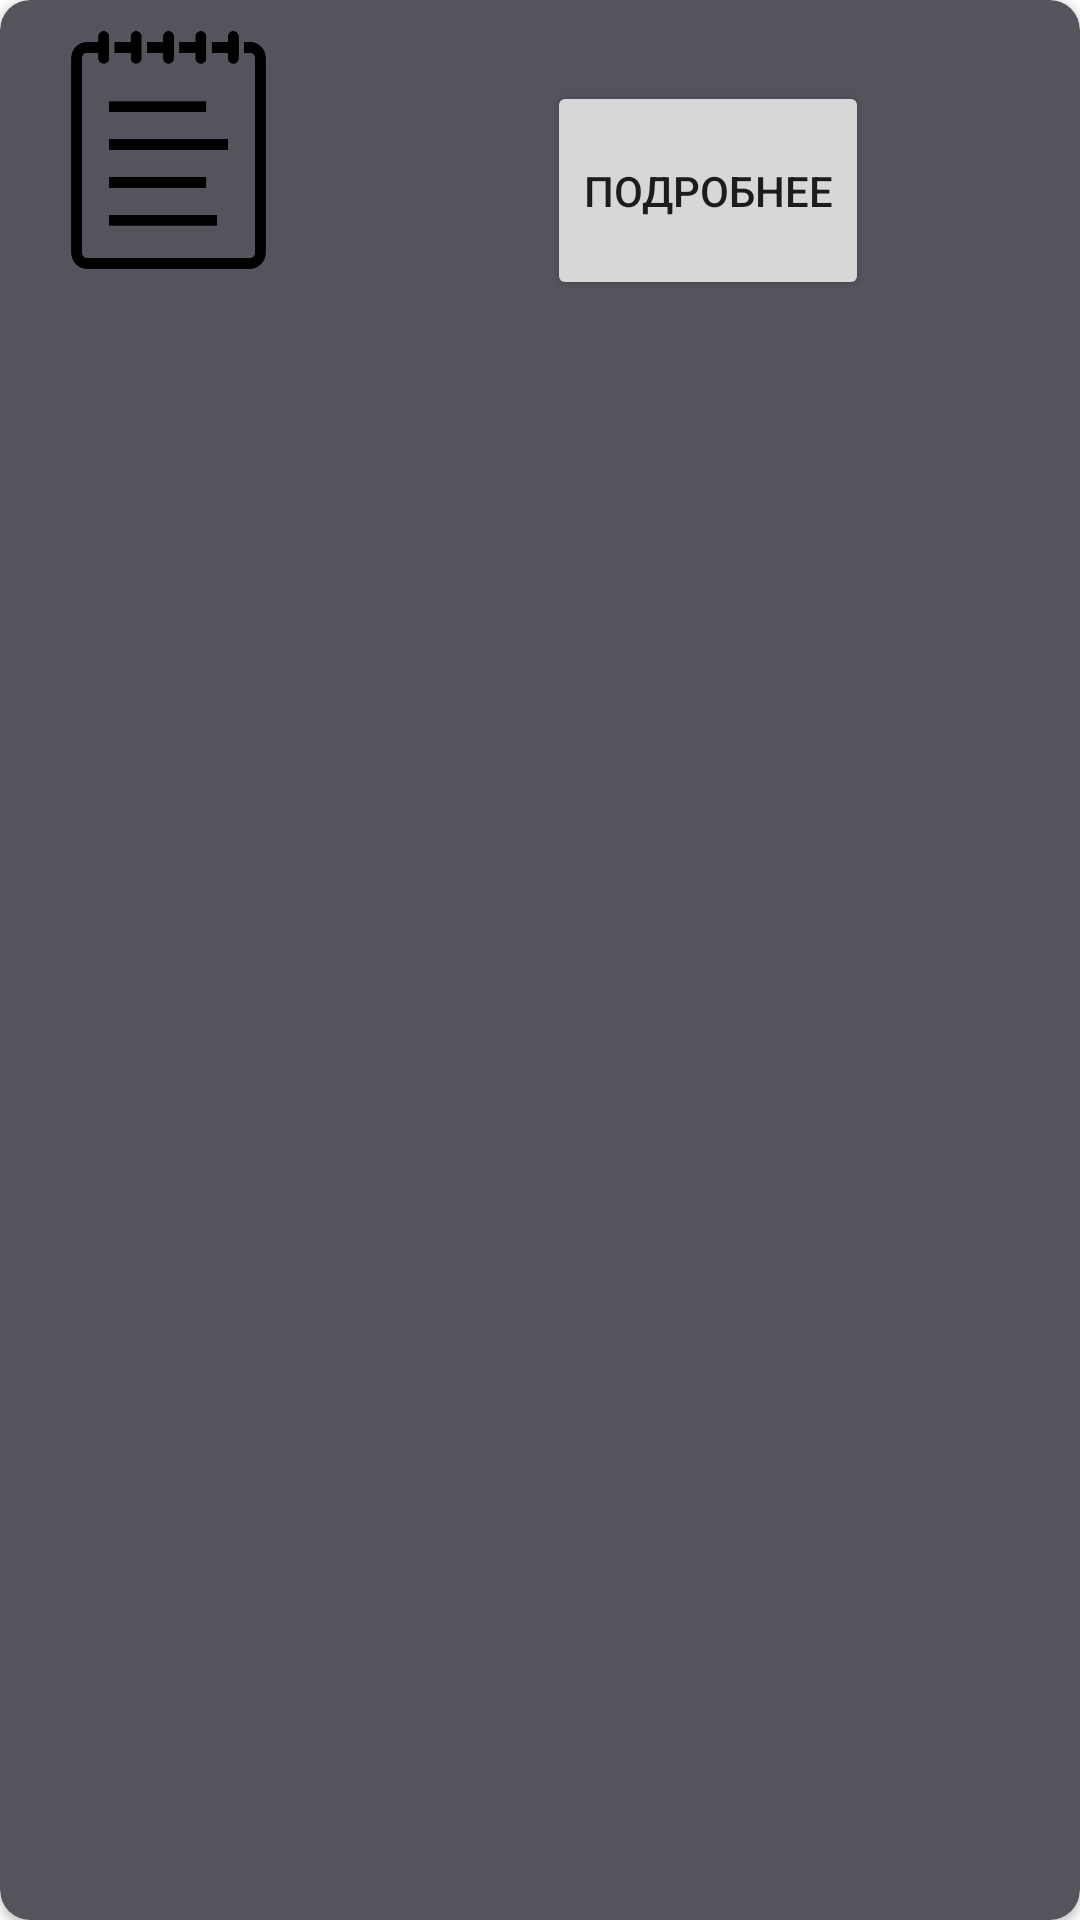

Where icons sit on this 1080x1920 app screen, as (x1, y1, x2, y2):
notepad: (0, 0, 266, 269)
